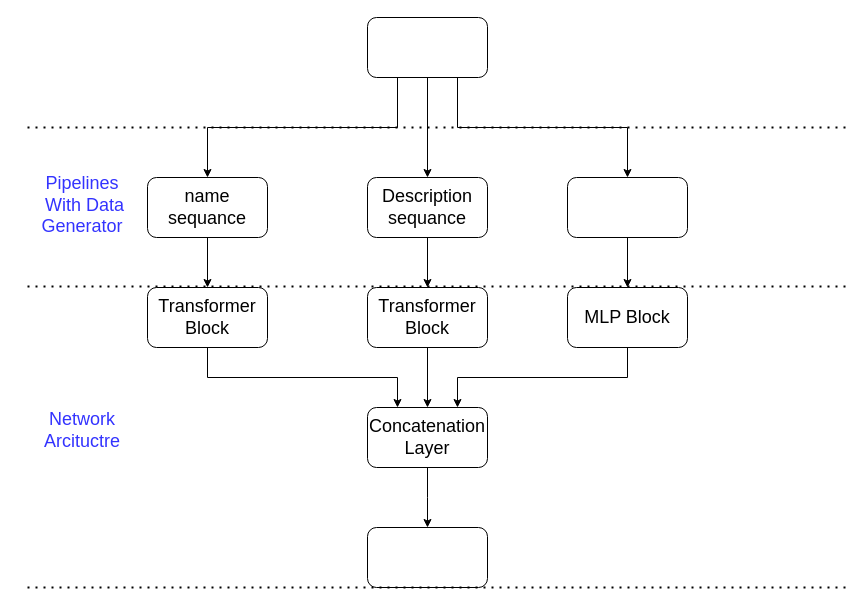
Image size: 866x607. Some labels were removed from this diagram. The centre of each missing label's shape, as x and y in pixels:
DataFrame: the point at 427,47
Other features vector: the point at 627,207
Output Layer: the point at 427,557
